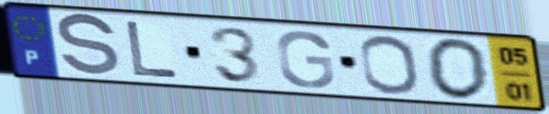3: (207, 26, 264, 85)
G: (273, 29, 338, 90)
L: (122, 19, 183, 80)
O: (423, 36, 492, 103), (356, 33, 423, 97)
S: (54, 11, 123, 80)
